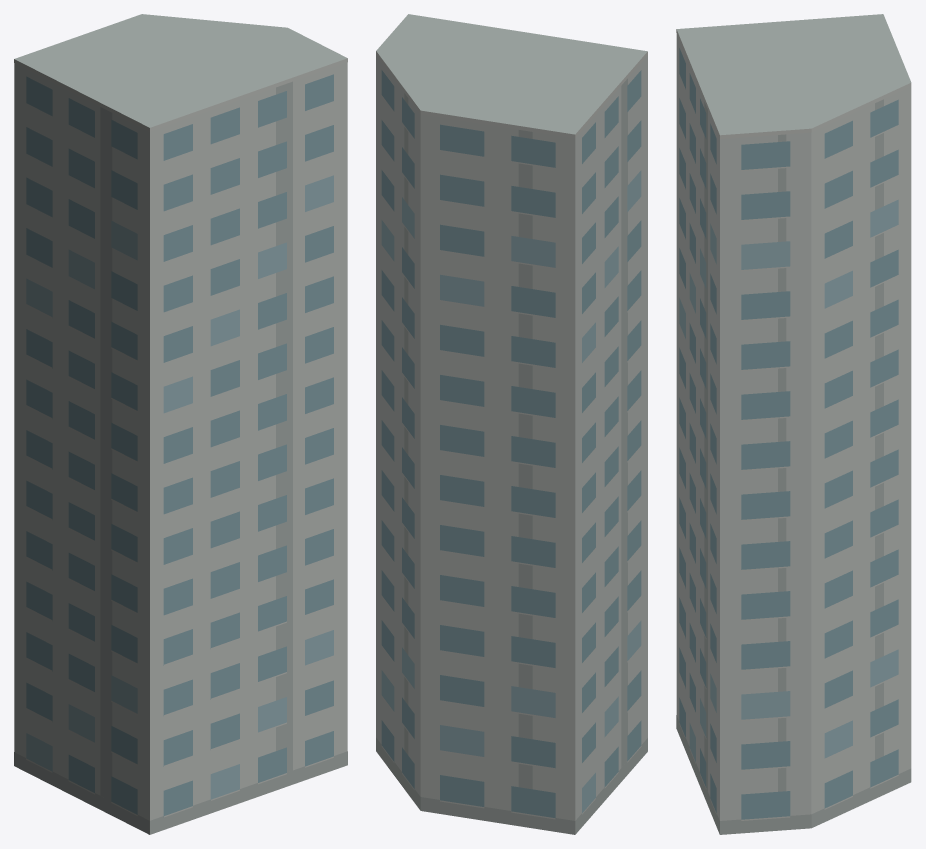
Rendered from residential-cd6dab8d-f0b7-49d9-954a-2456ed25bab2.glb.
3 views of the same model, side by side, from view 1: azimuth 30°, elevation 25°; view 2: azimuth 150°, elevation 25°; view 3: azimuth 270°, elevation 25° (orthographic).
Visible parts, largest first — view 1: residential-cd6dab8d-f0b7-49d9-954a-2456ed25bab2.tmp; view 2: residential-cd6dab8d-f0b7-49d9-954a-2456ed25bab2.tmp; view 3: residential-cd6dab8d-f0b7-49d9-954a-2456ed25bab2.tmp.
Part boxes in pixels (left/top/right/bottom): residential-cd6dab8d-f0b7-49d9-954a-2456ed25bab2.tmp: left=14, top=14, right=347, bottom=834; residential-cd6dab8d-f0b7-49d9-954a-2456ed25bab2.tmp: left=376, top=14, right=647, bottom=834; residential-cd6dab8d-f0b7-49d9-954a-2456ed25bab2.tmp: left=676, top=14, right=911, bottom=834.
Bounding box in the file's own units: 15.99 × 43 × 13.09.
